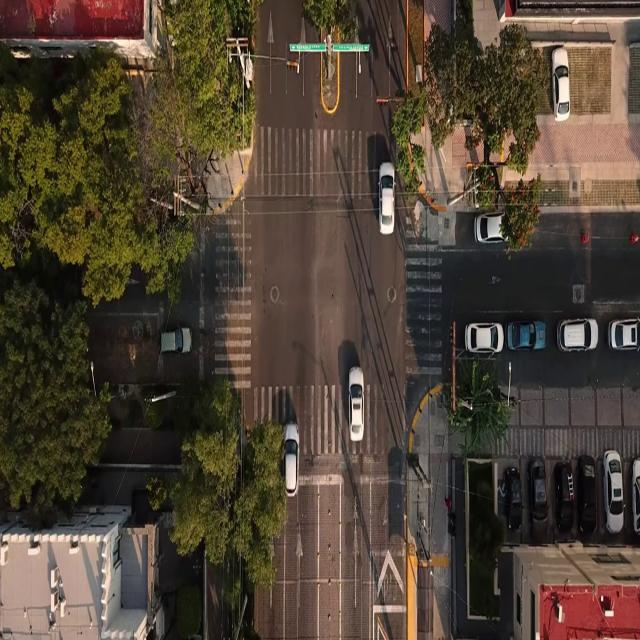car: (603, 450, 623, 533), (577, 456, 597, 534), (554, 462, 574, 533), (557, 319, 598, 351), (528, 458, 547, 527), (552, 48, 569, 121), (506, 321, 546, 350), (465, 323, 503, 353), (348, 368, 363, 441), (379, 162, 394, 234), (284, 422, 298, 496), (505, 467, 521, 530), (608, 319, 639, 350), (475, 213, 505, 243), (160, 328, 191, 353), (631, 459, 640, 533)
